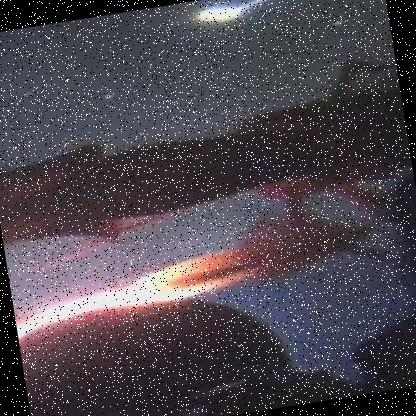colossal_squid: (0, 73, 415, 262)
